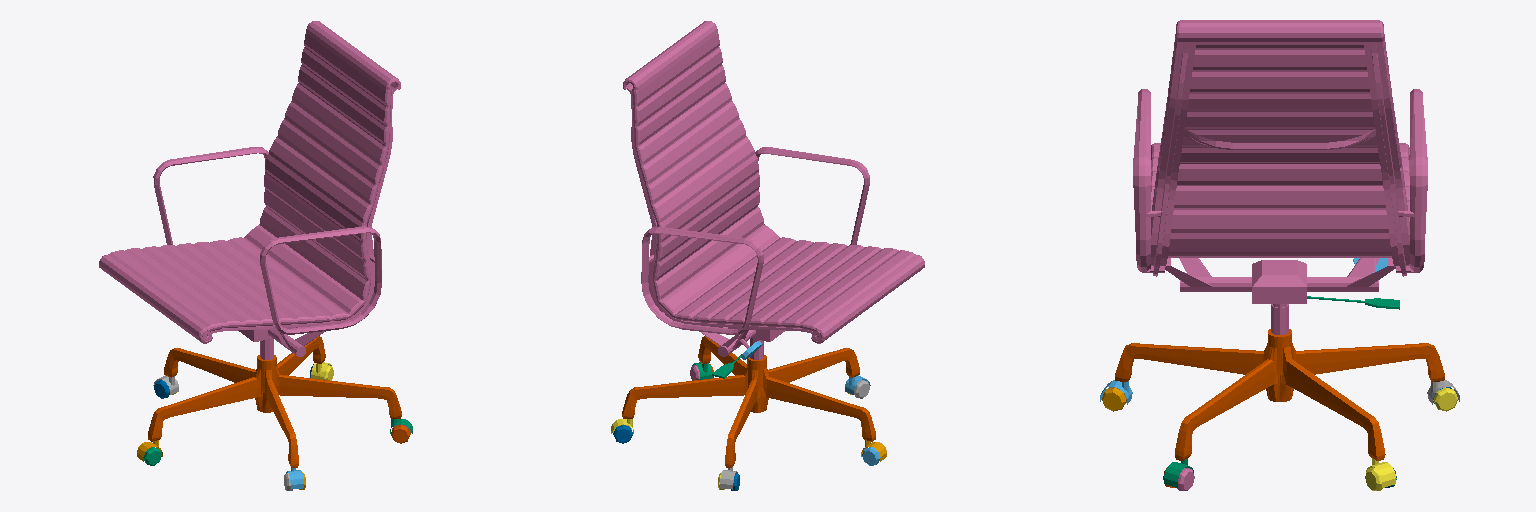
URDF robot description (partnet_341e18eafb46f892a6fee8e2140acec9):
<?xml version="1.0" encoding="utf-8"?>
<robot name="partnet_341e18eafb46f892a6fee8e2140acec9">
 <link name="base"/>
 <link name="link_0">
  <visual name="other_leaf-62">
   <origin xyz="0.3067335 0.07333890961465923 0.05626976023498802"/>
   <geometry>
    <mesh filename="textured_objs/original-35.obj"/>
   </geometry>
  </visual>
  <collision>
   <geometry>
    <mesh filename="cvx_objs/link_0.obj"/>
   </geometry>
  </collision>
 </link>
 <joint name="joint_0" type="continuous">
  <origin xyz="-0.3024521264628821 -0.07333890961465923 -0.09544713377210592"/>
  <axis xyz="0 0.6087262728037218 -0.7933803153585857"/>
  <child link="link_0"/>
  <parent link="link_13"/>
 </joint>
 <link name="link_1">
  <visual name="lever-44">
   <origin xyz="-0.008835029833018775 0.33037067444891727 0"/>
   <geometry>
    <mesh filename="textured_objs/original-25.obj"/>
   </geometry>
  </visual>
  <visual name="lever-44">
   <origin xyz="-0.008835029833018775 0.33037067444891727 0"/>
   <geometry>
    <mesh filename="textured_objs/original-27.obj"/>
   </geometry>
  </visual>
  <collision>
   <geometry>
    <mesh filename="cvx_objs/link_1.obj"/>
   </geometry>
  </collision>
 </link>
 <joint name="joint_1" type="revolute">
  <origin xyz="0.013116403370136682 -0.33037067444891727 -0.03917737353711791"/>
  <axis xyz="0 0 1"/>
  <child link="link_1"/>
  <parent link="link_13"/>
  <limit lower="0.0" upper="0.3490658503988659"/>
 </joint>
 <link name="link_2">
  <visual name="wheel-40">
   <origin xyz="0.31277681397917934 0.7623489999999999 0.4305193700824943"/>
   <geometry>
    <mesh filename="textured_objs/original-16.obj"/>
   </geometry>
  </visual>
  <collision>
   <geometry>
    <mesh filename="cvx_objs/link_2.obj"/>
   </geometry>
  </collision>
 </link>
 <joint name="joint_2" type="continuous">
  <origin xyz="0.003295686020820643 -0.7623489999999999 -0.040550870082494306"/>
  <axis xyz="0.8090293436440921 0 -0.5877682546061922"/>
  <child link="link_2"/>
  <parent link="link_18"/>
 </joint>
 <link name="link_3">
  <visual name="wheel-41">
   <origin xyz="0.31277681397917934 0.7623489999999999 0.4305193700824943"/>
   <geometry>
    <mesh filename="textured_objs/original-15.obj"/>
   </geometry>
  </visual>
  <collision>
   <geometry>
    <mesh filename="cvx_objs/link_3.obj"/>
   </geometry>
  </collision>
 </link>
 <joint name="joint_3" type="continuous">
  <origin xyz="0.003295686020820643 -0.7623489999999999 -0.040550870082494306"/>
  <axis xyz="0.8090293436440921 0 -0.5877682546061922"/>
  <child link="link_3"/>
  <parent link="link_18"/>
 </joint>
 <link name="link_4">
  <visual name="wheel-36">
   <origin xyz="-0.3098502696518742 0.7623489999999999 0.4264280455287642"/>
   <geometry>
    <mesh filename="textured_objs/original-10.obj"/>
   </geometry>
  </visual>
  <collision>
   <geometry>
    <mesh filename="cvx_objs/link_4.obj"/>
   </geometry>
  </collision>
 </link>
 <joint name="joint_4" type="continuous">
  <origin xyz="0.002337269651874141 -0.7623489999999999 -0.03645954552876418"/>
  <axis xyz="0.8089879858690675 0 0.5878251770037666"/>
  <child link="link_4"/>
  <parent link="link_17"/>
 </joint>
 <link name="link_5">
  <visual name="wheel-37">
   <origin xyz="-0.3098502696518742 0.7623489999999999 0.4264280455287642"/>
   <geometry>
    <mesh filename="textured_objs/original-9.obj"/>
   </geometry>
  </visual>
  <collision>
   <geometry>
    <mesh filename="cvx_objs/link_5.obj"/>
   </geometry>
  </collision>
 </link>
 <joint name="joint_5" type="continuous">
  <origin xyz="0.002337269651874141 -0.7623489999999999 -0.03645954552876418"/>
  <axis xyz="0.8089879858690675 0 0.5878251770037666"/>
  <child link="link_5"/>
  <parent link="link_17"/>
 </joint>
 <link name="link_6">
  <visual name="wheel-32">
   <origin xyz="-0.5414887314876315 0.7623492749178251 -0.17595712442908348"/>
   <geometry>
    <mesh filename="textured_objs/original-21.obj"/>
   </geometry>
  </visual>
  <collision>
   <geometry>
    <mesh filename="cvx_objs/link_6.obj"/>
   </geometry>
  </collision>
 </link>
 <joint name="joint_6" type="continuous">
  <origin xyz="0.04127771239922984 -0.7623492749178251 -0.027139219283442095"/>
  <axis xyz="-0.3090189783017005 1.9372702790012414e-05 0.9510558714786801"/>
  <child link="link_6"/>
  <parent link="link_16"/>
 </joint>
 <link name="link_7">
  <visual name="wheel-33">
   <origin xyz="-0.5414887314876315 0.7623492749178251 -0.17595712442908348"/>
   <geometry>
    <mesh filename="textured_objs/original-20.obj"/>
   </geometry>
  </visual>
  <collision>
   <geometry>
    <mesh filename="cvx_objs/link_7.obj"/>
   </geometry>
  </collision>
 </link>
 <joint name="joint_7" type="continuous">
  <origin xyz="0.04127771239922984 -0.7623492749178251 -0.027139219283442095"/>
  <axis xyz="-0.3090189783017005 1.9372702790012414e-05 0.9510558714786801"/>
  <child link="link_7"/>
  <parent link="link_16"/>
 </joint>
 <link name="link_8">
  <visual name="wheel-26">
   <origin xyz="0 0.7623489999999999 -0.6005014241332604"/>
   <geometry>
    <mesh filename="textured_objs/original-7.obj"/>
   </geometry>
  </visual>
  <collision>
   <geometry>
    <mesh filename="cvx_objs/link_8.obj"/>
   </geometry>
  </collision>
 </link>
 <joint name="joint_8" type="continuous">
  <origin xyz="0.0042795 -0.7623489999999999 0.030870924133260313"/>
  <axis xyz="-1 0 0"/>
  <child link="link_8"/>
  <parent link="link_15"/>
 </joint>
 <link name="link_9">
  <visual name="wheel-27">
   <origin xyz="0 0.7623489999999999 -0.6005014241332604"/>
   <geometry>
    <mesh filename="textured_objs/original-13.obj"/>
   </geometry>
  </visual>
  <collision>
   <geometry>
    <mesh filename="cvx_objs/link_9.obj"/>
   </geometry>
  </collision>
 </link>
 <joint name="joint_9" type="continuous">
  <origin xyz="0.0042795 -0.7623489999999999 0.030870924133260313"/>
  <axis xyz="-1 0 0"/>
  <child link="link_9"/>
  <parent link="link_15"/>
 </joint>
 <link name="link_10">
  <visual name="wheel-23">
   <origin xyz="0.5492292068430765 0.7623505219049186 -0.1784811101163524"/>
   <geometry>
    <mesh filename="textured_objs/original-19.obj"/>
   </geometry>
  </visual>
  <collision>
   <geometry>
    <mesh filename="cvx_objs/link_10.obj"/>
   </geometry>
  </collision>
 </link>
 <joint name="joint_10" type="continuous">
  <origin xyz="-0.040458214996790254 -0.7623505219049186 -0.024614887234336802"/>
  <axis xyz="-0.3090280152345797 -2.3308495994224738e-05 -0.9510529350445697"/>
  <child link="link_10"/>
  <parent link="link_14"/>
 </joint>
 <link name="link_11">
  <visual name="wheel-24">
   <origin xyz="0.5492292068430765 0.7623505219049186 -0.1784811101163524"/>
   <geometry>
    <mesh filename="textured_objs/original-18.obj"/>
   </geometry>
  </visual>
  <collision>
   <geometry>
    <mesh filename="cvx_objs/link_11.obj"/>
   </geometry>
  </collision>
 </link>
 <joint name="joint_11" type="continuous">
  <origin xyz="-0.040458214996790254 -0.7623505219049186 -0.024614887234336802"/>
  <axis xyz="-0.3090280152345797 -2.3308495994224738e-05 -0.9510529350445697"/>
  <child link="link_11"/>
  <parent link="link_14"/>
 </joint>
 <link name="link_12">
  <visual name="leg-11">
   <origin xyz="0 0 0"/>
   <geometry>
    <mesh filename="textured_objs/original-3.obj"/>
   </geometry>
  </visual>
  <visual name="leg-12">
   <origin xyz="0 0 0"/>
   <geometry>
    <mesh filename="textured_objs/original-2.obj"/>
   </geometry>
  </visual>
  <visual name="leg-13">
   <origin xyz="0 0 0"/>
   <geometry>
    <mesh filename="textured_objs/original-1.obj"/>
   </geometry>
  </visual>
  <visual name="leg-14">
   <origin xyz="0 0 0"/>
   <geometry>
    <mesh filename="textured_objs/original-4.obj"/>
   </geometry>
  </visual>
  <visual name="leg-15">
   <origin xyz="0 0 0"/>
   <geometry>
    <mesh filename="textured_objs/original-5.obj"/>
   </geometry>
  </visual>
  <collision>
   <geometry>
    <mesh filename="cvx_objs/link_12.obj"/>
   </geometry>
  </collision>
 </link>
 <joint name="joint_12" type="fixed">
  <origin rpy="1.570796326794897 0 -1.570796326794897" xyz="0 0 0"/>
  <child link="link_12"/>
  <parent link="base"/>
 </joint>
 <link name="link_13">
  <visual name="mounting_plate-45">
   <origin xyz="0.004281373537117907 0 -0.03917737353711791"/>
   <geometry>
    <mesh filename="textured_objs/original-24.obj"/>
   </geometry>
  </visual>
  <visual name="back_frame_horizontal_bar-77">
   <origin xyz="0.004281373537117907 0 -0.03917737353711791"/>
   <geometry>
    <mesh filename="textured_objs/original-30.obj"/>
   </geometry>
  </visual>
  <visual name="back_soft_surface-80">
   <origin xyz="0.004281373537117907 0 -0.03917737353711791"/>
   <geometry>
    <mesh filename="textured_objs/new-14.obj"/>
   </geometry>
  </visual>
  <visual name="back_support-79">
   <origin xyz="0.004281373537117907 0 -0.03917737353711791"/>
   <geometry>
    <mesh filename="textured_objs/new-19.obj"/>
   </geometry>
  </visual>
  <visual name="arm_holistic_frame-71">
   <origin xyz="0.004281373537117907 0 -0.03917737353711791"/>
   <geometry>
    <mesh filename="textured_objs/new-24.obj"/>
   </geometry>
  </visual>
  <visual name="arm_connector-72">
   <origin xyz="0.004281373537117907 0 -0.03917737353711791"/>
   <geometry>
    <mesh filename="textured_objs/new-23.obj"/>
   </geometry>
  </visual>
  <visual name="arm_connector-73">
   <origin xyz="0.004281373537117907 0 -0.03917737353711791"/>
   <geometry>
    <mesh filename="textured_objs/original-45.obj"/>
   </geometry>
  </visual>
  <visual name="arm_connector-74">
   <origin xyz="0.004281373537117907 0 -0.03917737353711791"/>
   <geometry>
    <mesh filename="textured_objs/original-44.obj"/>
   </geometry>
  </visual>
  <visual name="arm_holistic_frame-67">
   <origin xyz="0.004281373537117907 0 -0.03917737353711791"/>
   <geometry>
    <mesh filename="textured_objs/new-22.obj"/>
   </geometry>
  </visual>
  <visual name="arm_connector-68">
   <origin xyz="0.004281373537117907 0 -0.03917737353711791"/>
   <geometry>
    <mesh filename="textured_objs/new-21.obj"/>
   </geometry>
  </visual>
  <visual name="arm_connector-69">
   <origin xyz="0.004281373537117907 0 -0.03917737353711791"/>
   <geometry>
    <mesh filename="textured_objs/new-20.obj"/>
   </geometry>
  </visual>
  <visual name="arm_connector-70">
   <origin xyz="0.004281373537117907 0 -0.03917737353711791"/>
   <geometry>
    <mesh filename="textured_objs/original-42.obj"/>
   </geometry>
  </visual>
  <visual name="seat_soft_surface-64">
   <origin xyz="0.004281373537117907 0 -0.03917737353711791"/>
   <geometry>
    <mesh filename="textured_objs/original-33.obj"/>
   </geometry>
  </visual>
  <visual name="seat_soft_surface-64">
   <origin xyz="0.004281373537117907 0 -0.03917737353711791"/>
   <geometry>
    <mesh filename="textured_objs/original-37.obj"/>
   </geometry>
  </visual>
  <visual name="seat_soft_surface-64">
   <origin xyz="0.004281373537117907 0 -0.03917737353711791"/>
   <geometry>
    <mesh filename="textured_objs/original-36.obj"/>
   </geometry>
  </visual>
  <visual name="seat_soft_surface-64">
   <origin xyz="0.004281373537117907 0 -0.03917737353711791"/>
   <geometry>
    <mesh filename="textured_objs/original-29.obj"/>
   </geometry>
  </visual>
  <visual name="seat_soft_surface-64">
   <origin xyz="0.004281373537117907 0 -0.03917737353711791"/>
   <geometry>
    <mesh filename="textured_objs/new-13.obj"/>
   </geometry>
  </visual>
  <visual name="seat_support-65">
   <origin xyz="0.004281373537117907 0 -0.03917737353711791"/>
   <geometry>
    <mesh filename="textured_objs/new-18.obj"/>
   </geometry>
  </visual>
  <visual name="central_support-42">
   <origin xyz="0.004281373537117907 0 -0.03917737353711791"/>
   <geometry>
    <mesh filename="textured_objs/original-26.obj"/>
   </geometry>
  </visual>
  <visual name="seat_frame_vertical_bar-55">
   <origin xyz="0.004281373537117907 0 -0.03917737353711791"/>
   <geometry>
    <mesh filename="textured_objs/new-12.obj"/>
   </geometry>
  </visual>
  <visual name="seat_frame_vertical_bar-56">
   <origin xyz="0.004281373537117907 0 -0.03917737353711791"/>
   <geometry>
    <mesh filename="textured_objs/new-11.obj"/>
   </geometry>
  </visual>
  <visual name="seat_frame_horizontal_bar-57">
   <origin xyz="0.004281373537117907 0 -0.03917737353711791"/>
   <geometry>
    <mesh filename="textured_objs/new-10.obj"/>
   </geometry>
  </visual>
  <visual name="seat_frame_horizontal_bar-58">
   <origin xyz="0.004281373537117907 0 -0.03917737353711791"/>
   <geometry>
    <mesh filename="textured_objs/original-32.obj"/>
   </geometry>
  </visual>
  <visual name="seat_frame_vertical_bar-59">
   <origin xyz="0.004281373537117907 0 -0.03917737353711791"/>
   <geometry>
    <mesh filename="textured_objs/new-15.obj"/>
   </geometry>
  </visual>
  <visual name="seat_frame_vertical_bar-60">
   <origin xyz="0.004281373537117907 0 -0.03917737353711791"/>
   <geometry>
    <mesh filename="textured_objs/new-16.obj"/>
   </geometry>
  </visual>
  <visual name="seat_frame_horizontal_bar-63">
   <origin xyz="0.004281373537117907 0 -0.03917737353711791"/>
   <geometry>
    <mesh filename="textured_objs/new-17.obj"/>
   </geometry>
  </visual>
  <collision>
   <geometry>
    <mesh filename="cvx_objs/link_13.obj"/>
   </geometry>
  </collision>
 </link>
 <joint name="joint_13" type="continuous">
  <origin xyz="0.0 0 0.0"/>
  <axis xyz="0 1 0"/>
  <child link="link_13"/>
  <parent link="link_13_helper"/>
 </joint>
 <link name="link_14">
  <visual name="caster_yoke-21">
   <origin xyz="0.5087709918462863 0 -0.2030959973506892"/>
   <geometry>
    <mesh filename="textured_objs/new-1.obj"/>
   </geometry>
  </visual>
  <visual name="caster_stem-22">
   <origin xyz="0.5087709918462863 0 -0.2030959973506892"/>
   <geometry>
    <mesh filename="textured_objs/new-0.obj"/>
   </geometry>
  </visual>
  <collision>
   <geometry>
    <mesh filename="cvx_objs/link_14.obj"/>
   </geometry>
  </collision>
 </link>
 <joint name="joint_14" type="continuous">
  <origin xyz="-0.5087709918462863 0 0.2030959973506892"/>
  <axis xyz="0 1 0"/>
  <child link="link_14"/>
  <parent link="link_12"/>
 </joint>
 <link name="link_15">
  <visual name="caster_yoke-28">
   <origin xyz="0.0042795 0 -0.5696305"/>
   <geometry>
    <mesh filename="textured_objs/new-3.obj"/>
   </geometry>
  </visual>
  <visual name="caster_stem-29">
   <origin xyz="0.0042795 0 -0.5696305"/>
   <geometry>
    <mesh filename="textured_objs/new-2.obj"/>
   </geometry>
  </visual>
  <collision>
   <geometry>
    <mesh filename="cvx_objs/link_15.obj"/>
   </geometry>
  </collision>
 </link>
 <joint name="joint_15" type="continuous">
  <origin xyz="-0.0042795 0 0.5696305"/>
  <axis xyz="0 1 0"/>
  <child link="link_15"/>
  <parent link="link_12"/>
 </joint>
 <link name="link_16">
  <visual name="caster_yoke-30">
   <origin xyz="-0.5002110190884017 0 -0.20309634371252558"/>
   <geometry>
    <mesh filename="textured_objs/new-5.obj"/>
   </geometry>
  </visual>
  <visual name="caster_stem-31">
   <origin xyz="-0.5002110190884017 0 -0.20309634371252558"/>
   <geometry>
    <mesh filename="textured_objs/new-4.obj"/>
   </geometry>
  </visual>
  <collision>
   <geometry>
    <mesh filename="cvx_objs/link_16.obj"/>
   </geometry>
  </collision>
 </link>
 <joint name="joint_16" type="continuous">
  <origin xyz="0.5002110190884017 0 0.20309634371252558"/>
  <axis xyz="0 1 0"/>
  <child link="link_16"/>
  <parent link="link_12"/>
 </joint>
 <link name="link_17">
  <visual name="caster_yoke-34">
   <origin xyz="-0.30751300000000004 0 0.3899685"/>
   <geometry>
    <mesh filename="textured_objs/new-7.obj"/>
   </geometry>
  </visual>
  <visual name="caster_stem-35">
   <origin xyz="-0.30751300000000004 0 0.3899685"/>
   <geometry>
    <mesh filename="textured_objs/new-6.obj"/>
   </geometry>
  </visual>
  <collision>
   <geometry>
    <mesh filename="cvx_objs/link_17.obj"/>
   </geometry>
  </collision>
 </link>
 <joint name="joint_17" type="continuous">
  <origin xyz="0.30751300000000004 0 -0.3899685"/>
  <axis xyz="0 1 0"/>
  <child link="link_17"/>
  <parent link="link_12"/>
 </joint>
 <link name="link_18">
  <visual name="caster_yoke-38">
   <origin xyz="0.3160725 0 0.3899685"/>
   <geometry>
    <mesh filename="textured_objs/new-9.obj"/>
   </geometry>
  </visual>
  <visual name="caster_stem-39">
   <origin xyz="0.3160725 0 0.3899685"/>
   <geometry>
    <mesh filename="textured_objs/new-8.obj"/>
   </geometry>
  </visual>
  <collision>
   <geometry>
    <mesh filename="cvx_objs/link_18.obj"/>
   </geometry>
  </collision>
 </link>
 <joint name="joint_18" type="continuous">
  <origin xyz="-0.3160725 0 -0.3899685"/>
  <axis xyz="0 1 0"/>
  <child link="link_18"/>
  <parent link="link_12"/>
 </joint>
 <link name="link_13_helper"/>
 <joint name="joint_19" type="prismatic">
  <origin xyz="-0.004281373537117907 0 0.03917737353711791"/>
  <axis xyz="0 -1 0"/>
  <child link="link_13_helper"/>
  <parent link="link_12"/>
  <limit lower="0" upper="0.06"/>
 </joint>
</robot>

--- Render facts (derived) ---
3 views of the same robot in one strip: view 1: azimuth 30°, elevation 25°; view 2: azimuth 150°, elevation 25°; view 3: azimuth 270°, elevation 25° (orthographic).
Model partnet_341e18eafb46f892a6fee8e2140acec9 with 21 links and 20 joints (1 revolute, 17 continuous, 1 prismatic, 1 fixed), rooted at base, posed every joint at zero.
Links seen in each view (by area): view 1: link_13, link_12; view 2: link_13, link_12; view 3: link_13, link_12.
Boxes of the visible links, x1,y1,x2,y2 form: link_13: (99, 21, 400, 359); link_12: (148, 336, 401, 467); link_13: (623, 21, 924, 359); link_12: (622, 336, 875, 467); link_13: (1133, 20, 1427, 334); link_12: (1115, 329, 1444, 460).
Bounding box of the posed robot: 1.12 × 1.17 × 1.67 m (x, y, z).
Meshes: 54 distinct files referenced, 54 mesh visuals loaded (54 OBJ).
